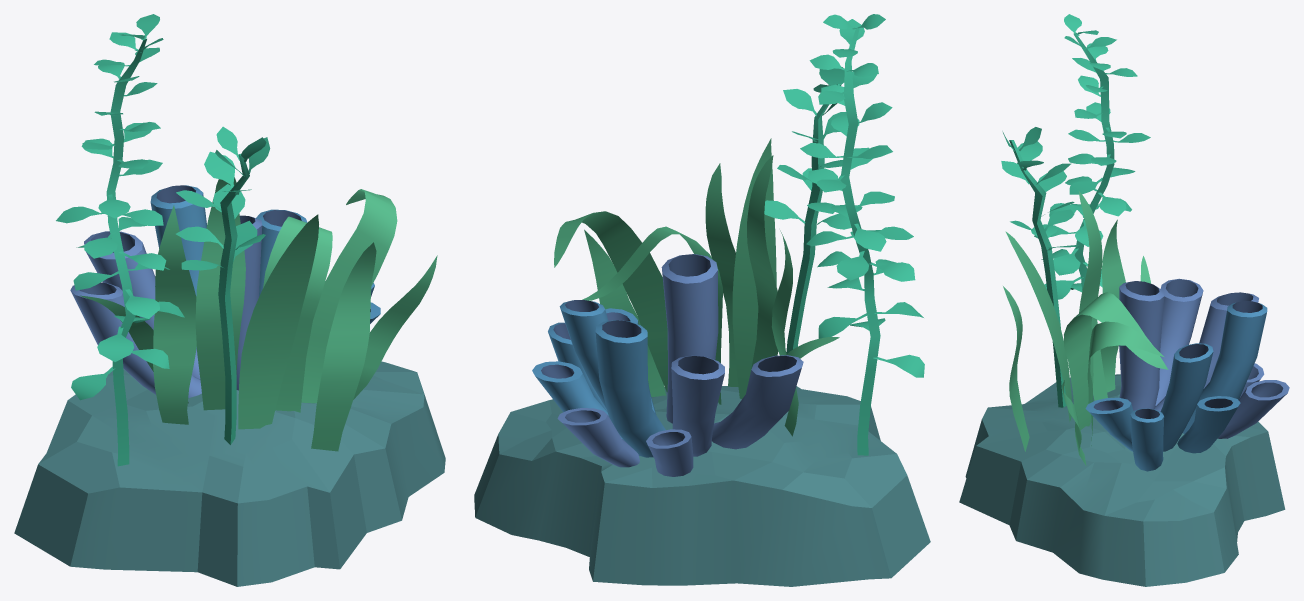
The model's file is coral_symbiosis_D.fbx.
3 renders of one model, left to right at view 1: azimuth 30°, elevation 25°; view 2: azimuth 150°, elevation 25°; view 3: azimuth 270°, elevation 25°, orthographic. The views are drawn at different scales.
Visible parts, largest first — view 1: coral_symbiosis_D_base, coral_symbiosis_D_rubber_plabt_A, coral_symbiosis_D_kelp_A, coral_symbiosis_D_rubber_plabt_B, coral_symbiosis_D_kelp_C, coral_symbiosis_D_kelp_D, coral_symbiosis_D_kelp_B, coral_symbiosis_D_kelp_G, coral_symbiosis_D_kelp_F, coral_symbiosis_D_tube_H, coral_symbiosis_D_kelp_H, coral_symbiosis_D_tube_D (+4 smaller); view 2: coral_symbiosis_D_base, coral_symbiosis_D_rubber_plabt_A, coral_symbiosis_D_tube_C, coral_symbiosis_D_tube_A, coral_symbiosis_D_kelp_G, coral_symbiosis_D_rubber_plabt_B, coral_symbiosis_D_tube_H, coral_symbiosis_D_kelp_A, coral_symbiosis_D_tube_D, coral_symbiosis_D_kelp_B, coral_symbiosis_D_kelp_C, coral_symbiosis_D_tube_K (+7 smaller); view 3: coral_symbiosis_D_base, coral_symbiosis_D_rubber_plabt_A, coral_symbiosis_D_rubber_plabt_B, coral_symbiosis_D_tube_A, coral_symbiosis_D_tube_C, coral_symbiosis_D_kelp_F, coral_symbiosis_D_tube_E, coral_symbiosis_D_tube_H, coral_symbiosis_D_kelp_B, coral_symbiosis_D_tube_I, coral_symbiosis_D_tube_K, coral_symbiosis_D_tube_G (+7 smaller).
Part boxes in pixels (bbox=[...]): coral_symbiosis_D_base: bbox=[14, 361, 445, 586]; coral_symbiosis_D_rubber_plabt_A: bbox=[56, 14, 184, 466]; coral_symbiosis_D_kelp_A: bbox=[238, 214, 318, 429]; coral_symbiosis_D_rubber_plabt_B: bbox=[176, 126, 270, 444]; coral_symbiosis_D_kelp_C: bbox=[311, 242, 376, 451]; coral_symbiosis_D_kelp_D: bbox=[153, 205, 196, 424]; coral_symbiosis_D_kelp_B: bbox=[195, 177, 245, 410]; coral_symbiosis_D_kelp_G: bbox=[301, 189, 397, 403]; coral_symbiosis_D_kelp_F: bbox=[263, 216, 332, 412]; coral_symbiosis_D_tube_H: bbox=[70, 282, 201, 398]; coral_symbiosis_D_kelp_H: bbox=[353, 255, 437, 399]; coral_symbiosis_D_tube_D: bbox=[84, 231, 200, 378]; coral_symbiosis_D_base: bbox=[474, 386, 930, 586]; coral_symbiosis_D_rubber_plabt_A: bbox=[800, 14, 924, 455]; coral_symbiosis_D_tube_C: bbox=[595, 320, 665, 457]; coral_symbiosis_D_tube_A: bbox=[661, 254, 718, 423]; coral_symbiosis_D_kelp_G: bbox=[554, 211, 667, 392]; coral_symbiosis_D_rubber_plabt_B: bbox=[764, 67, 851, 353]; coral_symbiosis_D_tube_H: bbox=[712, 355, 803, 449]; coral_symbiosis_D_kelp_A: bbox=[732, 138, 776, 398]; coral_symbiosis_D_tube_D: bbox=[671, 355, 724, 456]; coral_symbiosis_D_kelp_B: bbox=[747, 155, 778, 370]; coral_symbiosis_D_kelp_C: bbox=[705, 163, 738, 387]; coral_symbiosis_D_tube_K: bbox=[557, 408, 639, 467]; coral_symbiosis_D_base: bbox=[959, 374, 1285, 586]; coral_symbiosis_D_rubber_plabt_A: bbox=[1034, 14, 1150, 299]; coral_symbiosis_D_rubber_plabt_B: bbox=[1001, 127, 1078, 407]; coral_symbiosis_D_tube_A: bbox=[1119, 281, 1164, 410]; coral_symbiosis_D_tube_C: bbox=[1183, 301, 1267, 433]; coral_symbiosis_D_kelp_F: bbox=[1064, 292, 1168, 430]; coral_symbiosis_D_tube_E: bbox=[1160, 343, 1213, 451]; coral_symbiosis_D_tube_H: bbox=[1155, 278, 1203, 405]; coral_symbiosis_D_kelp_B: bbox=[1079, 191, 1107, 400]; coral_symbiosis_D_tube_I: bbox=[1177, 396, 1240, 453]; coral_symbiosis_D_tube_K: bbox=[1218, 380, 1289, 438]; coral_symbiosis_D_tube_G: bbox=[1130, 408, 1164, 471].
Bounding box in the file's own units: 94.8 × 113 × 78.97.
